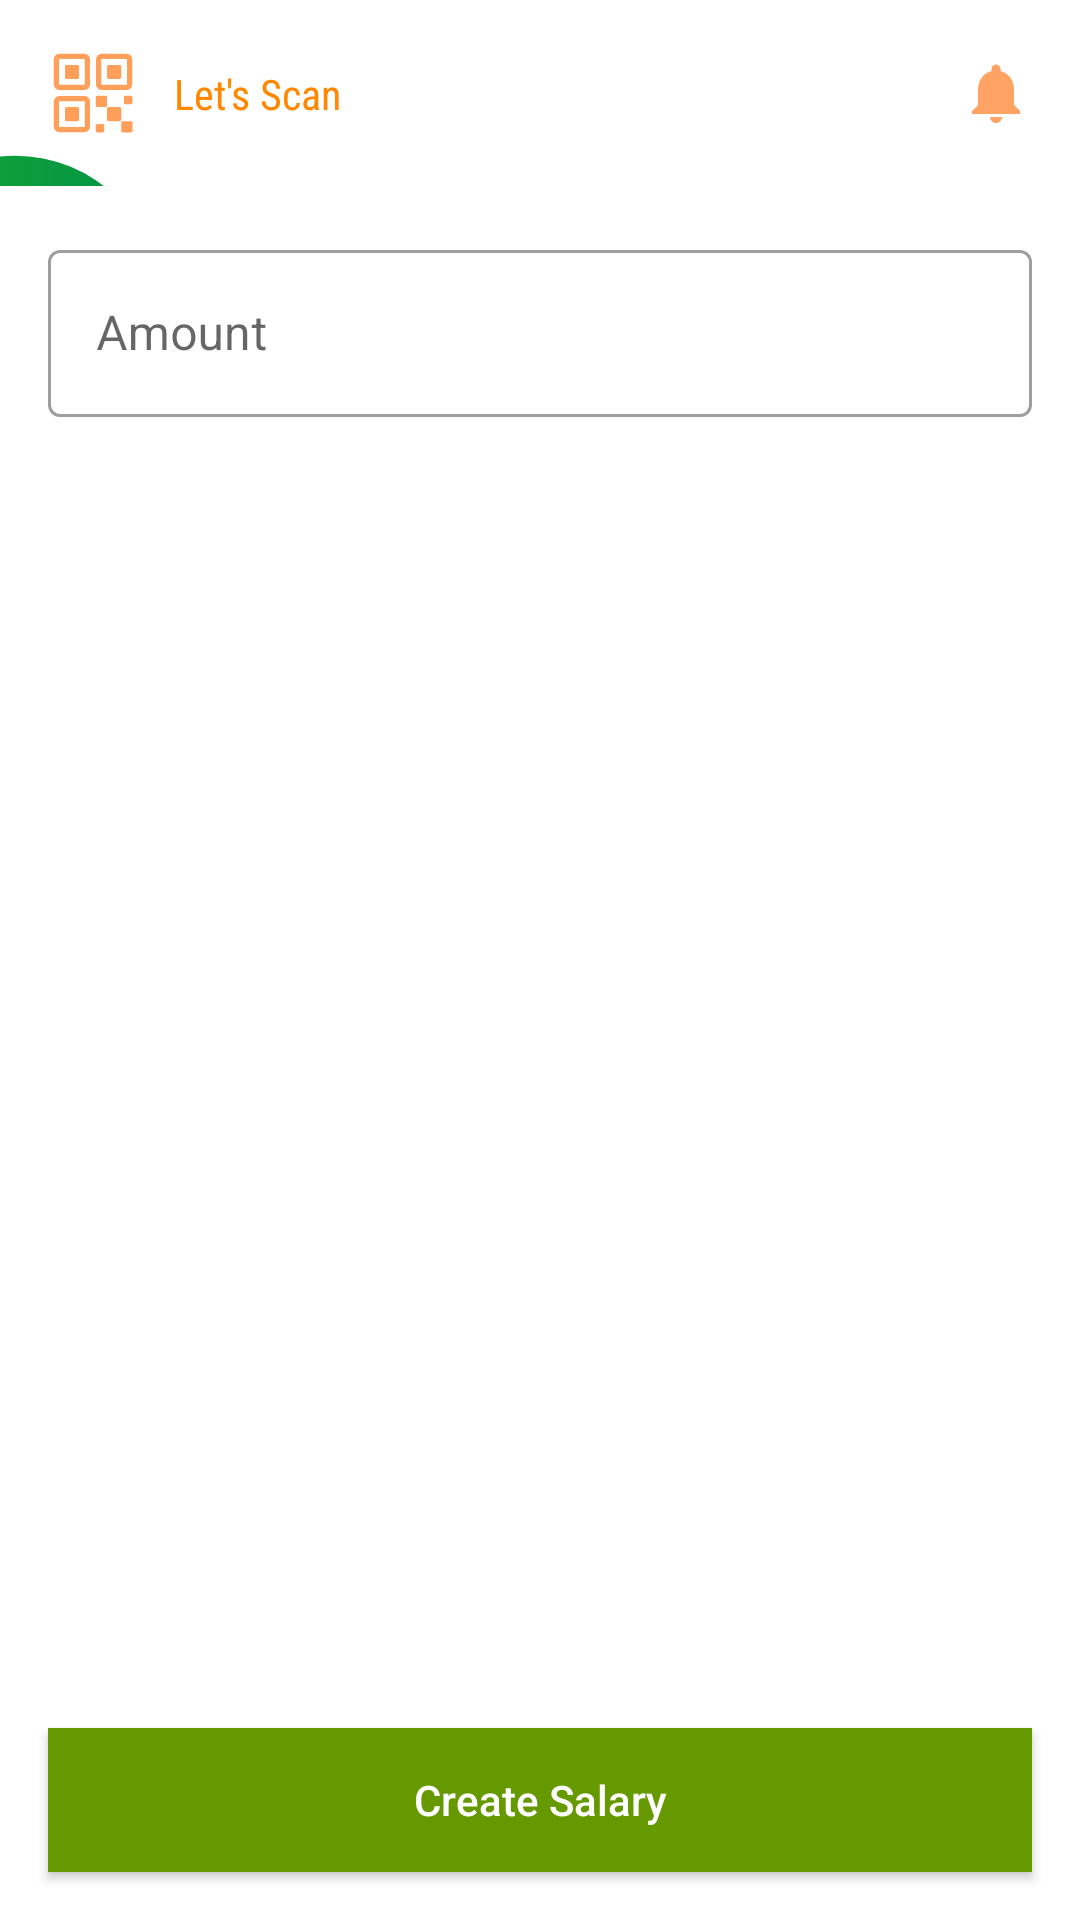

Icons on this 1080×1920 Android screen, each with the point to tap as (x=x, y=y):
notifications: (x=996, y=93)
qr code: (x=93, y=93)
